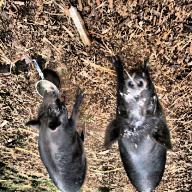boar: (104, 56, 172, 192), (25, 88, 88, 192)
